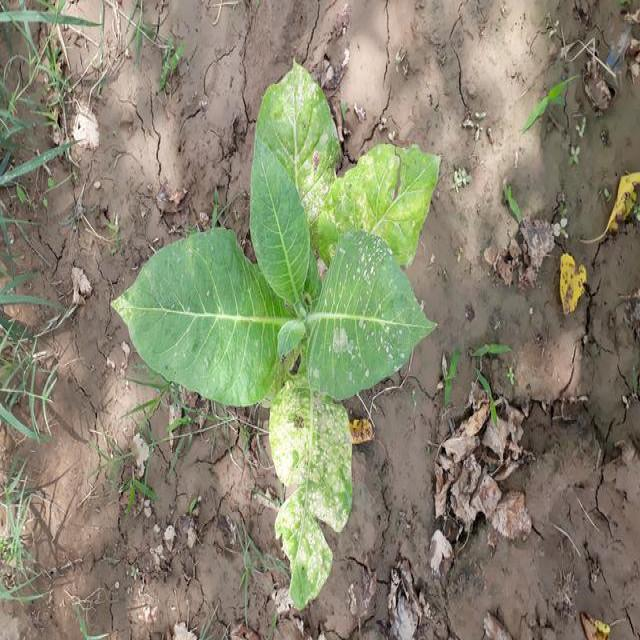crop: (138, 61, 443, 594)
